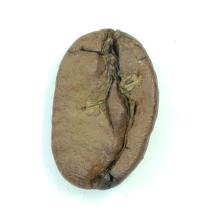NG: (67, 29, 142, 191)
